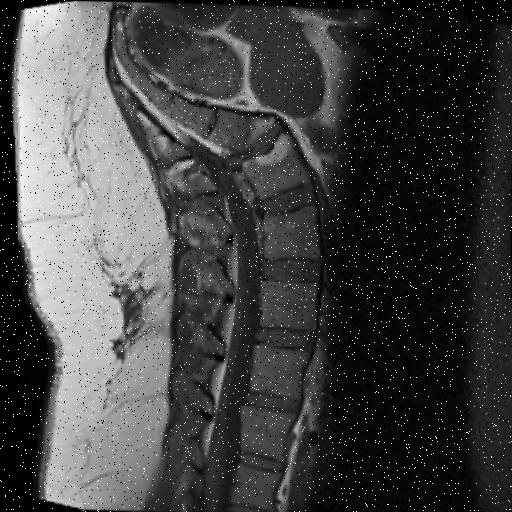L1: (237, 404, 293, 461)
L2: (247, 343, 306, 396)
L3: (259, 280, 314, 327)
L4: (262, 204, 317, 255)
L5: (241, 135, 308, 197)
S1: (208, 109, 272, 151)
